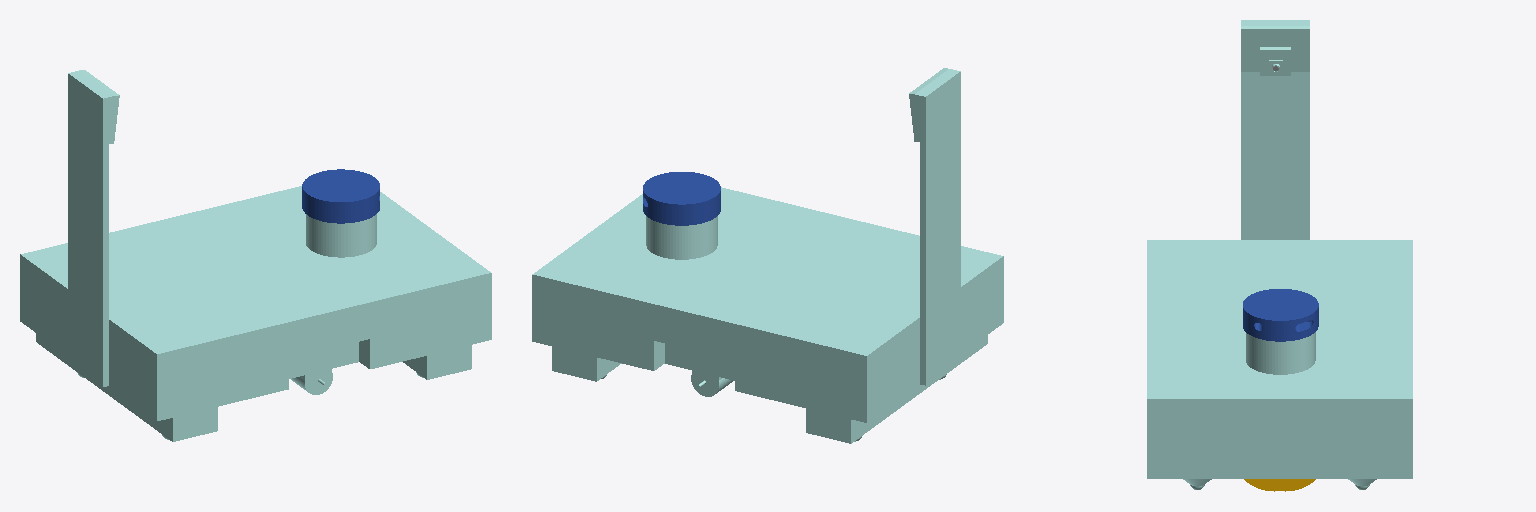
URDF robot description (onshape_model):
<?xml version="1.0" ?>
<!-- Generated using onshape-to-robot -->
<!-- Onshape https://cad.onshape.com/documents/89d56f62cbec5e4e914a96f1/w/b118536c27c0a895e8b92c2e/e/b15c13f495d40a52ea5ff85e -->
<robot name="onshape_model">
  <!-- Link base_link -->
  <link name="base_link">
    <inertial>
      <origin xyz="0.00110852 -4.60413e-05 0.0665281" rpy="0 0 0"/>
      <mass value="6.02365"/>
      <inertia ixx="0.0258641" ixy="-7.02344e-05" ixz="0.00181846" iyy="0.0540089" iyz="5.06161e-05" izz="0.0696575"/>
    </inertial>
    <!-- Part base_link -->
    <visual>
      <origin xyz="0.00301282 1.98005e-05 0" rpy="0 -0 0"/>
      <geometry>
        <mesh filename="package://rover_description/meshes/base_link.stl"/>
      </geometry>
      <material name="base_link_material">
        <color rgba="0.737255 0.937255 0.917647 1"/>
      </material>
    </visual>
    <collision>
      <origin xyz="0.00301282 1.98005e-05 0" rpy="0 -0 0"/>
      <geometry>
        <mesh filename="package://rover_description/meshes/base_link.stl"/>
      </geometry>
    </collision>
  </link>
  <!-- Link frame -->
  <link name="frame">
    <inertial>
      <origin xyz="0 0 0" rpy="0 0 0"/>
      <mass value="1e-09"/>
      <inertia ixx="1e-09" ixy="0" ixz="0" iyy="1e-09" iyz="0" izz="1e-09"/>
    </inertial>
    <!-- Part frame -->
    <visual>
      <origin xyz="0 0 0.096" rpy="3.14159 -0 0"/>
      <geometry>
        <mesh filename="package://rover_description/meshes/frame.stl"/>
      </geometry>
      <material name="frame_material">
        <color rgba="0.917647 0.917647 0.917647 1"/>
      </material>
    </visual>
    <collision>
      <origin xyz="0 0 0.096" rpy="3.14159 -0 0"/>
      <geometry>
        <mesh filename="package://rover_description/meshes/frame.stl"/>
      </geometry>
    </collision>
  </link>
  <!-- Joint from base_link to frame -->
  <joint name="base_footprint_joint" type="fixed">
    <origin xyz="-0 0 0.096" rpy="3.14159 -0 0"/>
    <parent link="base_link"/>
    <child link="frame"/>
    <axis xyz="0 0 1"/>
    <limit effort="10" velocity="10"/>
  </joint>
  <!-- Link lidar_link -->
  <link name="lidar_link">
    <inertial>
      <origin xyz="-0.000664365 -0.000288076 -0.00905124" rpy="0 0 0"/>
      <mass value="0.0635195"/>
      <inertia ixx="1.58017e-05" ixy="2.80196e-07" ixz="5.316e-08" iyy="1.59157e-05" iyz="2.3062e-08" izz="2.81689e-05"/>
    </inertial>
    <!-- Part lidar_link -->
    <visual>
      <origin xyz="-0.0760794 -0.0005 -0.144" rpy="0 -0 0"/>
      <geometry>
        <mesh filename="package://rover_description/meshes/lidar_link.stl"/>
      </geometry>
      <material name="lidar_link_material">
        <color rgba="0.231373 0.380392 0.705882 1"/>
      </material>
    </visual>
    <collision>
      <origin xyz="-0.0760794 -0.0005 -0.144" rpy="0 -0 0"/>
      <geometry>
        <mesh filename="package://rover_description/meshes/lidar_link.stl"/>
      </geometry>
    </collision>
  </link>
  <!-- Joint from base_link to lidar_link -->
  <joint name="lidar_joint" type="fixed">
    <origin xyz="0.0790922 0.000519801 0.144" rpy="0 -0 0"/>
    <parent link="base_link"/>
    <child link="lidar_link"/>
    <axis xyz="0 0 1"/>
    <limit effort="10" velocity="10"/>
  </joint>
  <!-- Link camera_link -->
  <link name="camera_link">
    <inertial>
      <origin xyz="-0 -0 -0.0001" rpy="0 0 0"/>
      <mass value="9.11538e-06"/>
      <inertia ixx="1e-09" ixy="-0" ixz="0" iyy="1e-09" iyz="-0" izz="1e-09"/>
    </inertial>
    <!-- Part camera_link -->
    <visual>
      <origin xyz="-0.233035 -0.00325 0.163274" rpy="-3.14159 -1.44547 0"/>
      <geometry>
        <mesh filename="package://rover_description/meshes/camera_link.stl"/>
      </geometry>
      <material name="camera_link_material">
        <color rgba="0.647059 0.647059 0.647059 1"/>
      </material>
    </visual>
    <collision>
      <origin xyz="-0.233035 -0.00325 0.163274" rpy="-3.14159 -1.44547 0"/>
      <geometry>
        <mesh filename="package://rover_description/meshes/camera_link.stl"/>
      </geometry>
    </collision>
  </link>
  <!-- Joint from base_link to camera_link -->
  <joint name="camera_joint" type="fixed">
    <origin xyz="-0.129802 -0.0032302 0.25161" rpy="-1.69612 -0 -1.5708"/>
    <parent link="base_link"/>
    <child link="camera_link"/>
    <axis xyz="0 0 1"/>
    <limit effort="10" velocity="10"/>
  </joint>
  <!-- Link wheel -->
  <link name="wheel">
    <inertial>
      <origin xyz="-0 -0 -0.0040025" rpy="0 0 0"/>
      <mass value="0.0659595"/>
      <inertia ixx="2.10606e-05" ixy="0" ixz="0" iyy="2.10606e-05" iyz="0" izz="3.68034e-05"/>
    </inertial>
    <!-- Part wheel -->
    <visual>
      <origin xyz="-0.0045 -0.032 0.099" rpy="-1.5708 0 0"/>
      <geometry>
        <mesh filename="package://rover_description/meshes/wheel.stl"/>
      </geometry>
      <material name="wheel_material">
        <color rgba="1 0.756863 0.054902 1"/>
      </material>
    </visual>
    <collision>
      <origin xyz="-0.0045 -0.032 0.099" rpy="-1.5708 0 0"/>
      <geometry>
        <mesh filename="package://rover_description/meshes/wheel.stl"/>
      </geometry>
    </collision>
  </link>
  <!-- Joint from base_link to wheel -->
  <joint name="right_wheel_joint" type="continuous">
    <origin xyz="0.00751282 -0.0989802 0.032" rpy="-1.5708 -0 -0"/>
    <parent link="base_link"/>
    <child link="wheel"/>
    <axis xyz="0 0 1"/>
    <limit effort="10" velocity="10"/>
  </joint>
  <!-- Link wheel_2 -->
  <link name="wheel_2">
    <inertial>
      <origin xyz="-0 0 0.0040025" rpy="0 0 0"/>
      <mass value="0.0659595"/>
      <inertia ixx="2.10606e-05" ixy="0" ixz="-0" iyy="2.10606e-05" iyz="0" izz="3.68034e-05"/>
    </inertial>
    <!-- Part wheel_2 -->
    <visual>
      <origin xyz="-0.0045 0.032 -0.099" rpy="1.5708 -0 0"/>
      <geometry>
        <mesh filename="package://rover_description/meshes/wheel.stl"/>
      </geometry>
      <material name="wheel_2_material">
        <color rgba="1 0.756863 0.054902 1"/>
      </material>
    </visual>
    <collision>
      <origin xyz="-0.0045 0.032 -0.099" rpy="1.5708 -0 0"/>
      <geometry>
        <mesh filename="package://rover_description/meshes/wheel.stl"/>
      </geometry>
    </collision>
  </link>
  <!-- Joint from base_link to wheel_2 -->
  <joint name="left_wheel_joint" type="continuous">
    <origin xyz="0.00751282 0.0990198 0.032" rpy="-1.5708 -0 -0"/>
    <parent link="base_link"/>
    <child link="wheel_2"/>
    <axis xyz="0 0 1"/>
    <limit effort="10" velocity="10"/>
  </joint>
</robot>

--- Facts derived from the render (not from the file) ---
Views: 3 orthographic renders of the robot side by side, from view 1: azimuth 30°, elevation 25°; view 2: azimuth 150°, elevation 25°; view 3: azimuth 270°, elevation 25°.
Robot: onshape_model — 6 links, 5 joints (2 continuous, 3 fixed); root link base_link; default pose: all joints at 0.
Visible links, largest first — view 1: base_link, lidar_link; view 2: base_link, lidar_link; view 3: base_link, lidar_link.
Boxes of the visible links, left/top/right/bottom form: base_link: left=20, top=70, right=491, bottom=441; lidar_link: left=302, top=169, right=379, bottom=223; base_link: left=532, top=68, right=1003, bottom=443; lidar_link: left=643, top=172, right=720, bottom=225; base_link: left=1147, top=20, right=1412, bottom=489; lidar_link: left=1243, top=289, right=1318, bottom=341.
Size in the robot's own frame: 0.302 by 0.21 by 0.2845 metres.
Meshes: 5 distinct files referenced, 5 mesh visuals loaded (4 binary STL); not drawn: 1 (reference not matched to a file when rendering).
